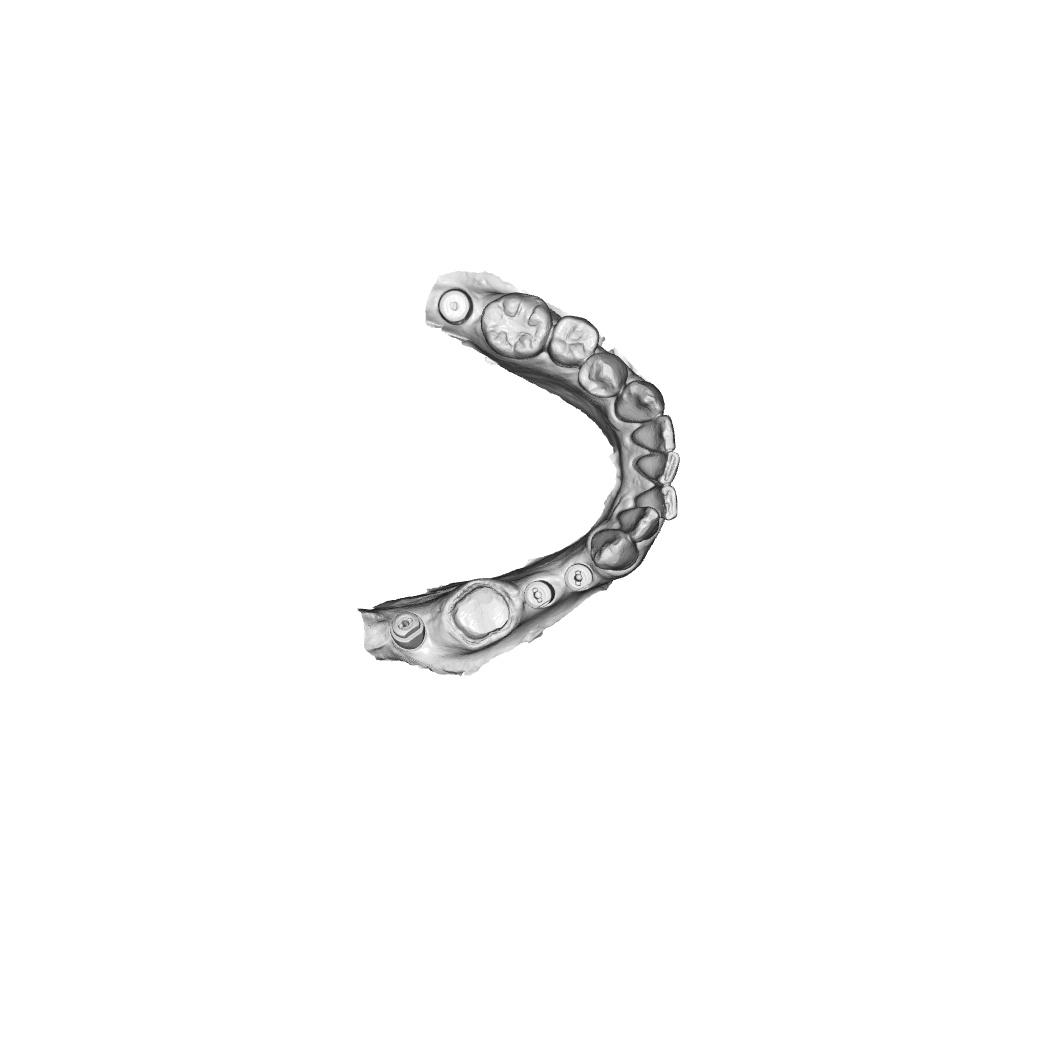canine: (614, 380, 666, 424), (590, 528, 640, 571)
crown: (447, 582, 517, 646)
implant: (438, 288, 473, 325)
implant_minus: (389, 609, 430, 653), (522, 579, 557, 610), (562, 562, 595, 593)
incisor: (630, 414, 677, 454), (633, 484, 679, 521), (634, 451, 681, 486), (616, 506, 660, 543)
molar: (479, 291, 553, 361)
premolar: (546, 315, 600, 369), (577, 352, 629, 400)
